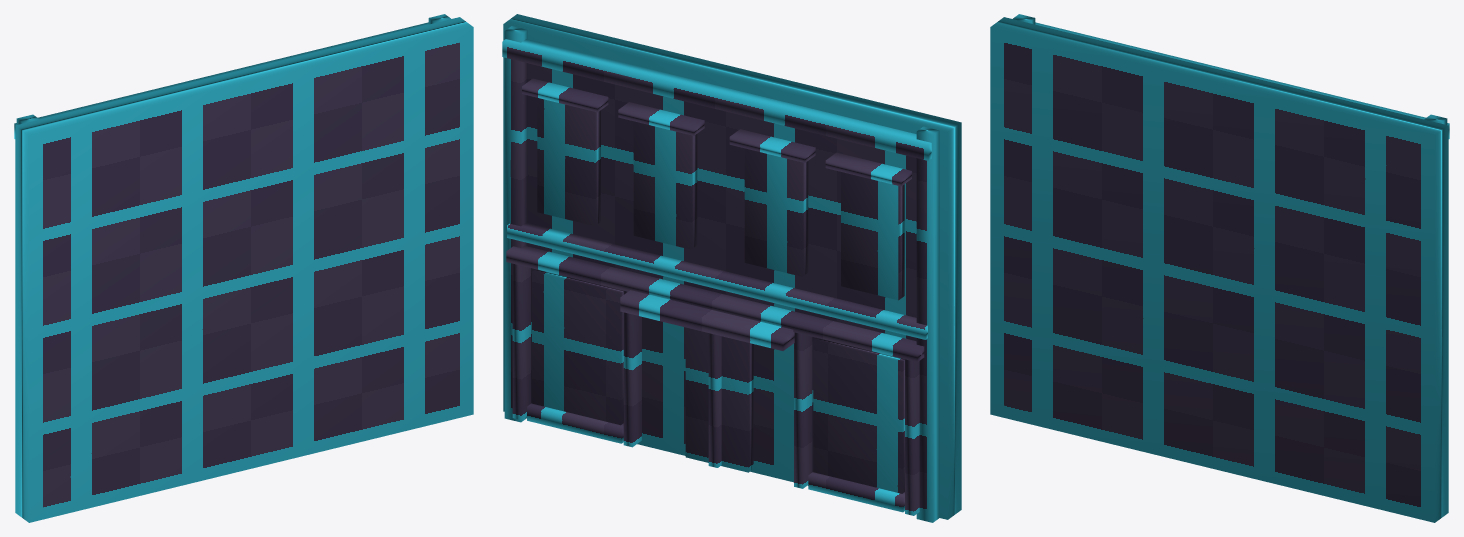
The model's file is SM_Env_CairoFacade_C.obj.
3 views of the same model, side by side, from view 1: azimuth 30°, elevation 25°; view 2: azimuth 150°, elevation 25°; view 3: azimuth 330°, elevation 25° (orthographic).
Parts seen in each view (by area): view 1: SM_Env_CairoFacade_C; view 2: SM_Env_CairoFacade_C; view 3: SM_Env_CairoFacade_C.
Part boxes in pixels (x1,y1,x2,y2): SM_Env_CairoFacade_C: (14, 14, 473, 522); SM_Env_CairoFacade_C: (502, 14, 961, 522); SM_Env_CairoFacade_C: (990, 14, 1449, 522).
Size of the model in its own units: 6 by 5 by 0.88.
Materials: 1 (1 with a texture image).
